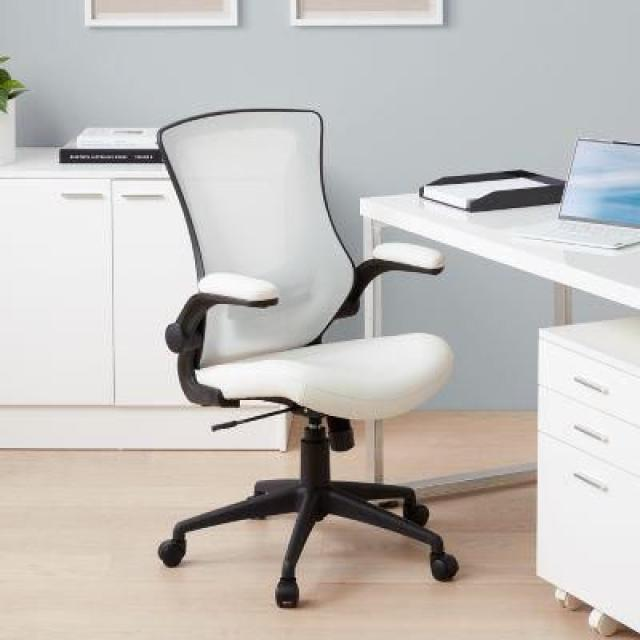chair: (24, 64, 482, 640)
